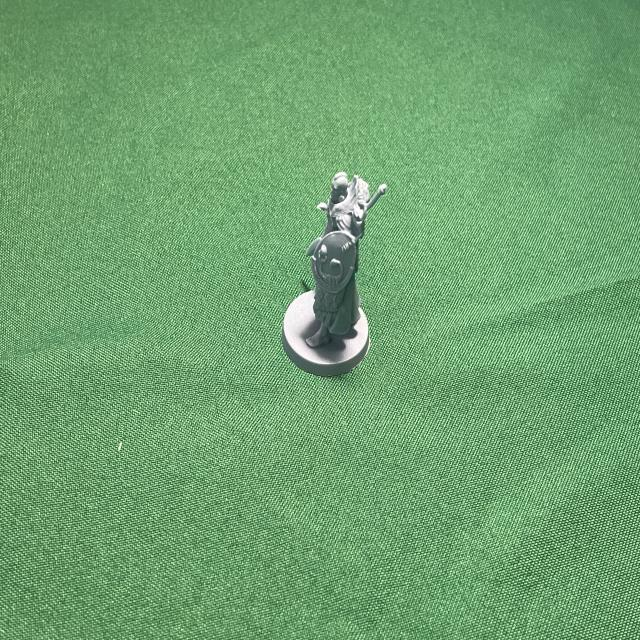isis_follower: (279, 167, 382, 373)
